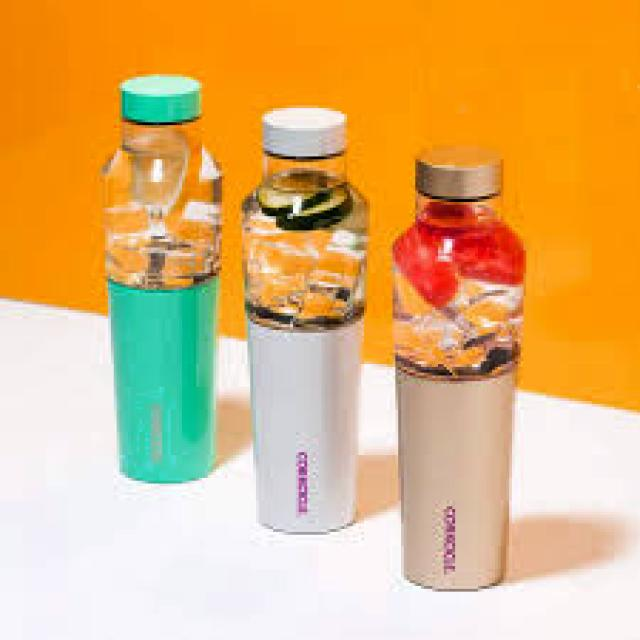bottle: (389, 142, 523, 588), (240, 107, 370, 534), (103, 60, 224, 482)
